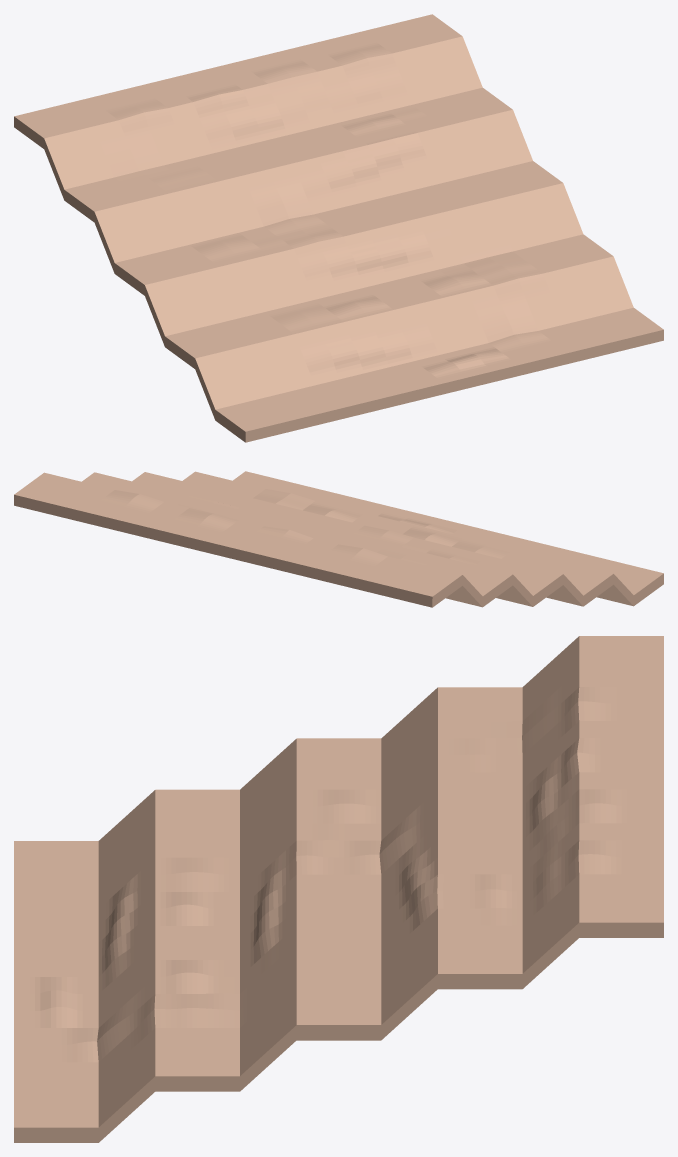
The model's file is structure_stairstraight.fbx.
The picture shows the model from 3 angles, top to bottom: view 1: azimuth 30°, elevation 25°; view 2: azimuth 150°, elevation 25°; view 3: azimuth 270°, elevation 25°; orthographic projection. The views are drawn at different scales.
Visible parts, largest first — view 1: stairstraight_steps_LOD0; view 2: stairstraight_steps_LOD0; view 3: stairstraight_steps_LOD0.
Part boxes in pixels (x1=…): stairstraight_steps_LOD0: x1=14, y1=14, x2=663, y2=442; stairstraight_steps_LOD0: x1=14, y1=471, x2=663, y2=607; stairstraight_steps_LOD0: x1=14, y1=636, x2=663, y2=1142.
Size of what is drawn, in the model's own units: 400 by 148 by 383.
